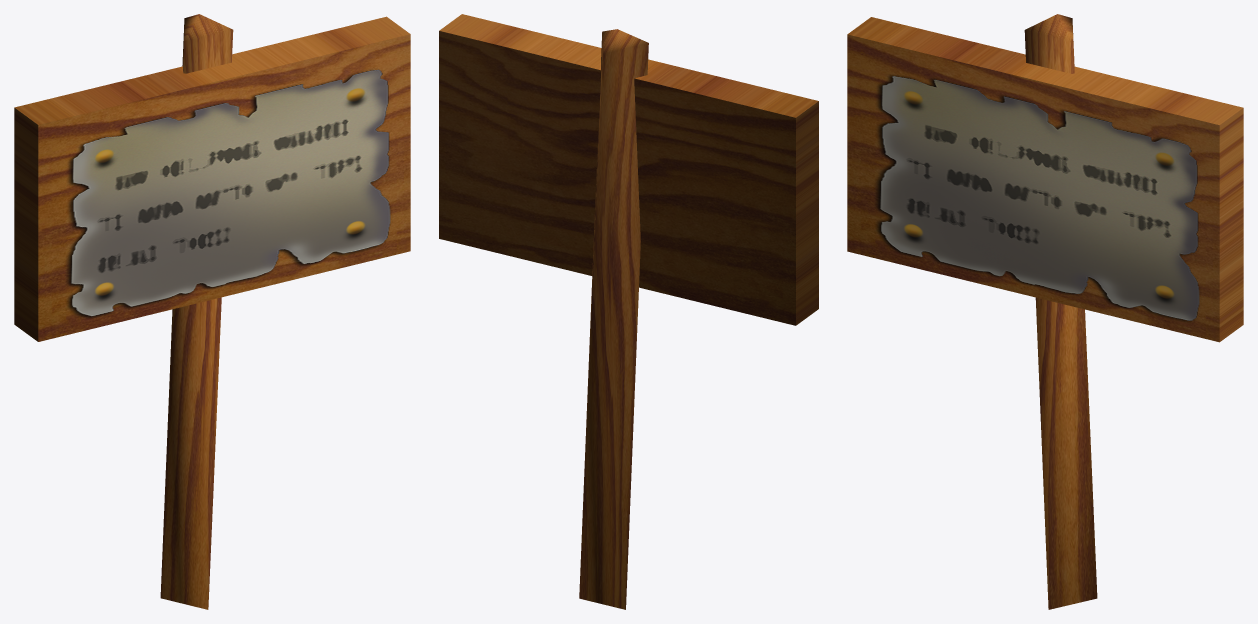
File: wooden_signpost.glb
3 renders of one model, left to right at view 1: azimuth 30°, elevation 25°; view 2: azimuth 150°, elevation 25°; view 3: azimuth 330°, elevation 25°, orthographic. The views are drawn at different scales.
Parts seen in each view (by area): view 1: wooden_signpost; view 2: wooden_signpost; view 3: wooden_signpost.
Boxes of the visible parts, bbox=[...] form: wooden_signpost: bbox=[14, 14, 410, 609]; wooden_signpost: bbox=[439, 14, 818, 609]; wooden_signpost: bbox=[847, 14, 1243, 609].
Size of the model in its own units: 0.8975 by 1.36 by 0.165.
2 materials, 2 textured.
